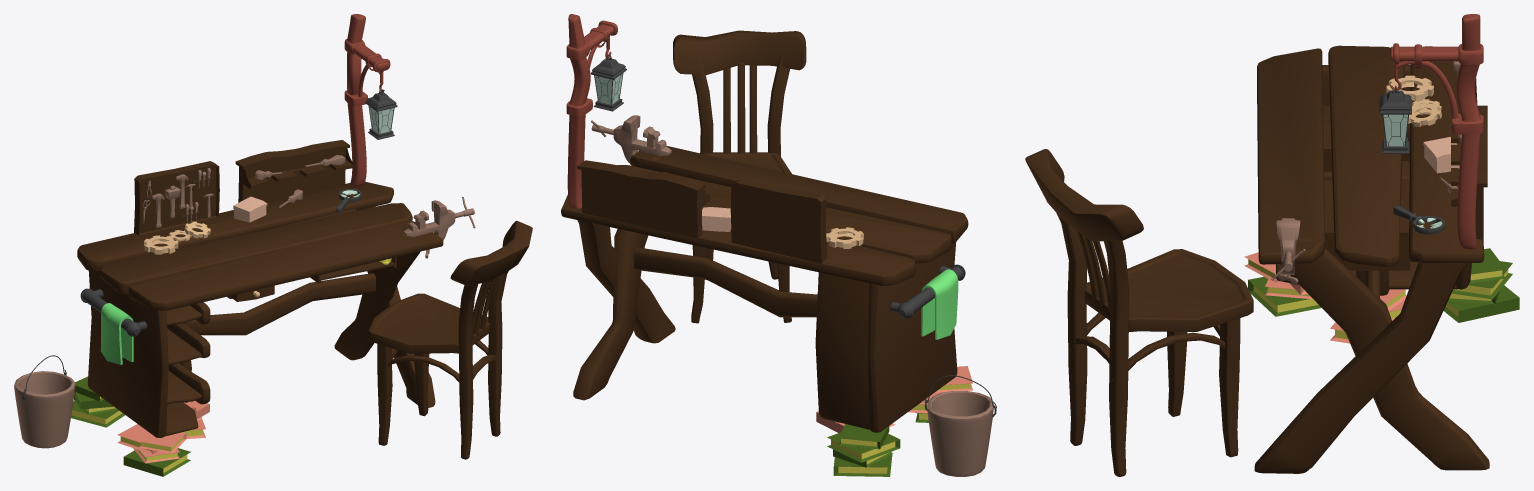
File: etabli.fbx
The picture shows the model from 3 angles, left to right: view 1: azimuth 30°, elevation 25°; view 2: azimuth 150°, elevation 25°; view 3: azimuth 270°, elevation 25°; orthographic projection. The views are drawn at different scales.
Parts seen in each view (by area): view 1: plateau, poutre.002, rakc-tool, Cube.013, Cube.014, panneau, Cube.010, poutre, croix-bois, poteau_lampe, Cube.016, Cube.015 (+14 smaller); view 2: plateau, poutre.002, croix-bois, poutre.003, rakc-tool, panneau, Cube.010, Cube.016, poutre, poteau_lampe, Cube.014, Cube (+15 smaller); view 3: plateau, croix-bois, Cube.013, Cube.014, poteau_lampe, Cube.016, Cube.015, casier, rakc-tool, livre.009, livre.005, Plane.002 (+11 smaller).
Boxes of the visible parts, bbox=[...] form: plateau: bbox=[77, 181, 443, 310]; poutre.002: bbox=[87, 270, 168, 437]; rakc-tool: bbox=[235, 140, 353, 203]; Cube.013: bbox=[368, 293, 489, 353]; Cube.014: bbox=[458, 230, 520, 459]; panneau: bbox=[134, 161, 219, 235]; Cube.010: bbox=[14, 371, 75, 448]; poutre: bbox=[186, 273, 376, 335]; croix-bois: bbox=[334, 191, 435, 407]; poteau_lampe: bbox=[344, 14, 390, 186]; Cube.016: bbox=[450, 221, 532, 285]; Cube.015: bbox=[377, 344, 429, 445]; plateau: bbox=[561, 146, 968, 285]; poutre.002: bbox=[868, 242, 957, 432]; croix-bois: bbox=[573, 155, 675, 400]; poutre.003: bbox=[815, 272, 869, 429]; rakc-tool: bbox=[577, 160, 710, 238]; panneau: bbox=[730, 179, 827, 263]; Cube.010: bbox=[927, 391, 993, 476]; Cube.016: bbox=[673, 30, 806, 75]; poutre: bbox=[633, 247, 817, 317]; poteau_lampe: bbox=[566, 14, 617, 208]; Cube.014: bbox=[691, 38, 789, 279]; Cube: bbox=[921, 269, 958, 339]; plateau: bbox=[1257, 45, 1484, 267]; croix-bois: bbox=[1254, 236, 1489, 473]; Cube.013: bbox=[1084, 249, 1253, 331]; Cube.014: bbox=[1056, 204, 1129, 476]; poteau_lampe: bbox=[1390, 14, 1483, 249]; Cube.016: bbox=[1025, 149, 1143, 241]; Cube.015: bbox=[1167, 318, 1240, 457]; casier: bbox=[1324, 180, 1410, 270]; rakc-tool: bbox=[1451, 105, 1487, 239]; livre.009: bbox=[1443, 285, 1519, 322]; livre.005: bbox=[1248, 276, 1321, 316]; Plane.002: bbox=[1068, 313, 1225, 381].
Bounding box in the file's own units: 591 × 468 × 455.
